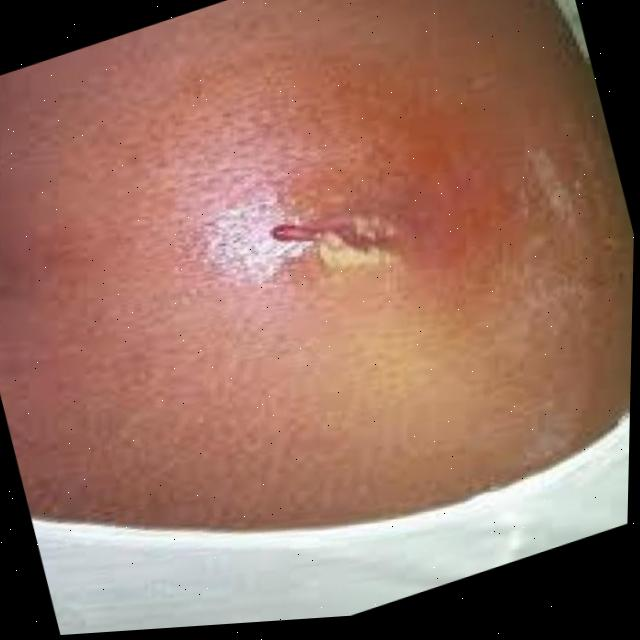Eczema: (239, 173, 432, 331)
